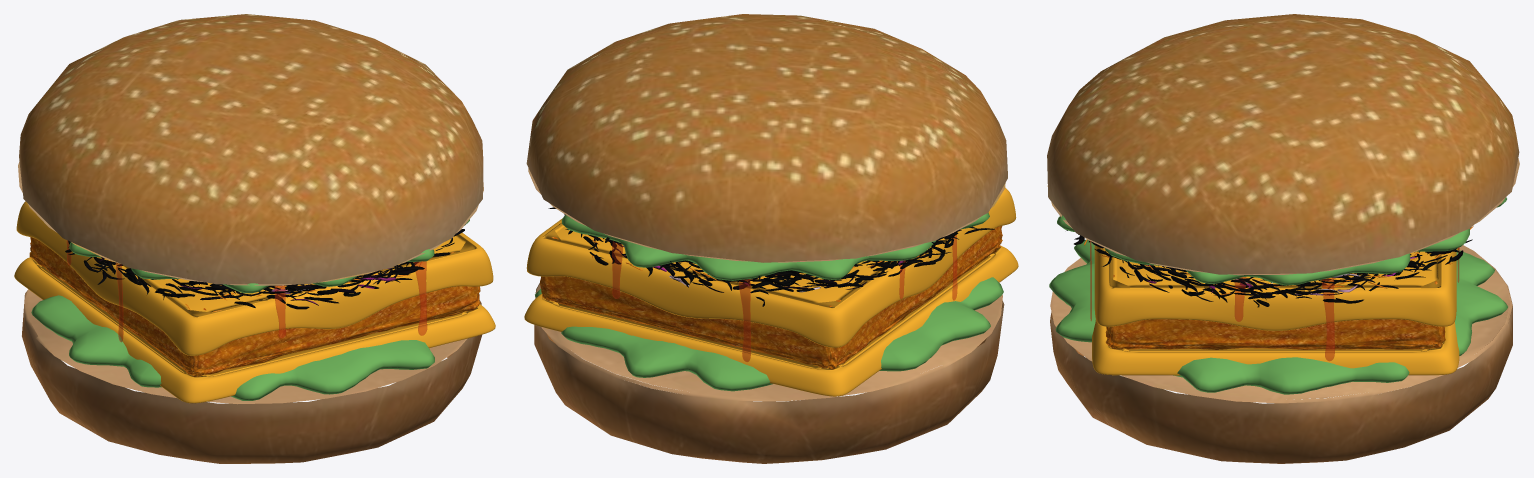
The model's file is crispy-paneer-burger-ultralight.glb.
3 renders of one model, left to right at view 1: azimuth 30°, elevation 25°; view 2: azimuth 150°, elevation 25°; view 3: azimuth 270°, elevation 25°, orthographic. The views are drawn at different scales.
Visible parts, largest first — view 1: Burger_Bottom_Bun, Burger_Cheese_Bottom, Burger_Chutney_Bottom, Burger_Paneer_Patty, Burger_Slaw_Ribbons, Burger_Chili_Drips; view 2: Burger_Bottom_Bun, Burger_Cheese_Bottom, Burger_Chutney_Bottom, Burger_Paneer_Patty, Burger_Slaw_Ribbons, Burger_Chili_Drips; view 3: Burger_Bottom_Bun, Burger_Cheese_Bottom, Burger_Chutney_Bottom, Burger_Paneer_Patty, Burger_Slaw_Ribbons, Burger_Chili_Drips.
Part boxes in pixels (left/top/right/bottom): Burger_Bottom_Bun: left=18, top=14, right=483, bottom=463; Burger_Cheese_Bottom: left=14, top=201, right=495, bottom=403; Burger_Chutney_Bottom: left=31, top=219, right=469, bottom=400; Burger_Paneer_Patty: left=29, top=237, right=480, bottom=376; Burger_Slaw_Ribbons: left=65, top=229, right=464, bottom=309; Burger_Chili_Drips: left=66, top=240, right=427, bottom=342; Burger_Bottom_Bun: left=526, top=14, right=1007, bottom=463; Burger_Cheese_Bottom: left=524, top=188, right=1018, bottom=396; Burger_Chutney_Bottom: left=535, top=213, right=1003, bottom=391; Burger_Paneer_Patty: left=540, top=226, right=1002, bottom=369; Burger_Slaw_Ribbons: left=548, top=207, right=994, bottom=306; Burger_Chili_Drips: left=612, top=235, right=957, bottom=361; Burger_Bottom_Bun: left=1047, top=14, right=1519, bottom=463; Burger_Cheese_Bottom: left=1092, top=245, right=1459, bottom=375; Burger_Chutney_Bottom: left=1049, top=197, right=1507, bottom=394; Burger_Paneer_Patty: left=1105, top=275, right=1445, bottom=349; Burger_Slaw_Ribbons: left=1066, top=227, right=1472, bottom=307; Burger_Chili_Drips: left=1090, top=241, right=1459, bottom=361.
Bounding box in the file's own units: 2 × 1.47 × 2.
7 materials, 3 textured.
